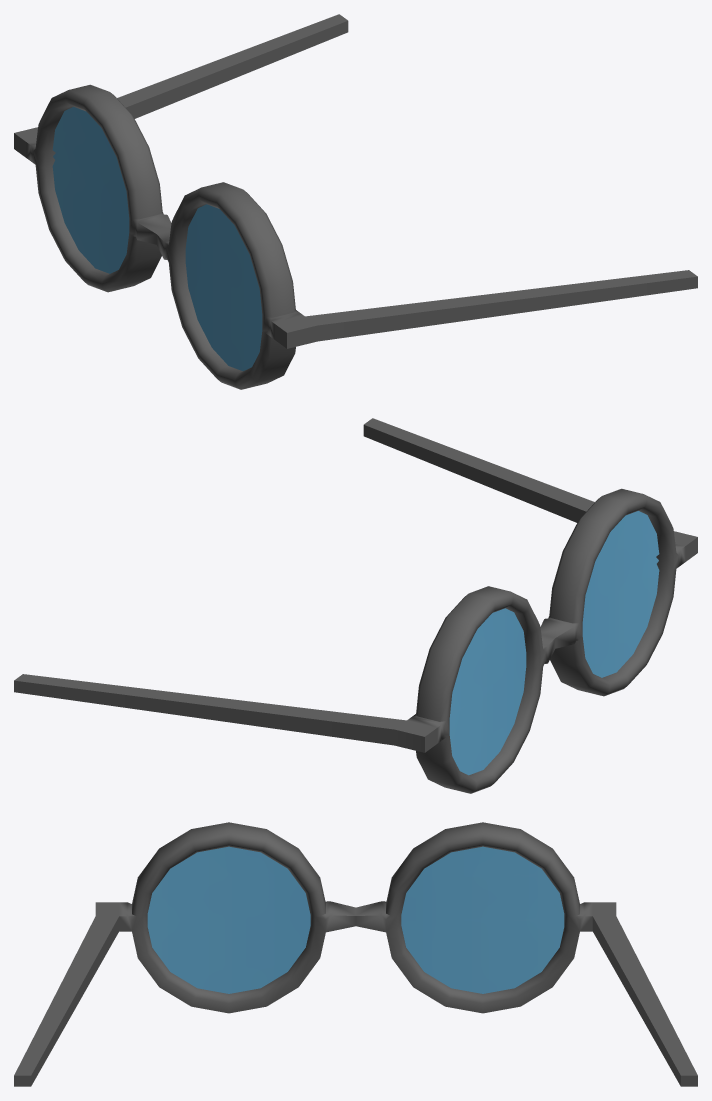
Rendered from Glasses02.fbx.
3 renders of one model, top to bottom at view 1: azimuth 30°, elevation 25°; view 2: azimuth 150°, elevation 25°; view 3: azimuth 270°, elevation 25°, orthographic. The views are drawn at different scales.
Parts seen in each view (by area): view 1: Glasses02; view 2: Glasses02; view 3: Glasses02.
Part boxes in pixels (<box>): Glasses02: <box>14,14,697,389</box>; Glasses02: <box>14,418,697,793</box>; Glasses02: <box>14,822,697,1086</box>.
Size of the model in its own units: 0.4852 by 0.8187 by 0.2364.
